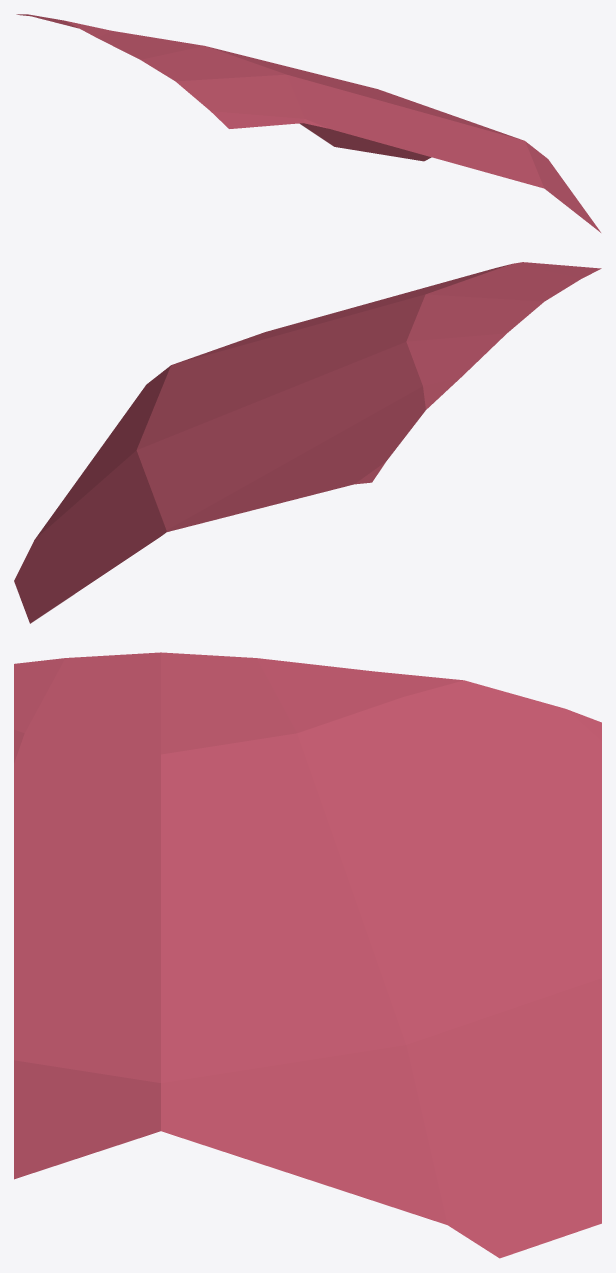
Rendered from cell_116.obj.
3 renders of one model, top to bottom at view 1: azimuth 30°, elevation 25°; view 2: azimuth 150°, elevation 25°; view 3: azimuth 270°, elevation 25°, orthographic. The views are drawn at different scales.
Bounding box in the file's own units: 1 × 0.671 × 1.
